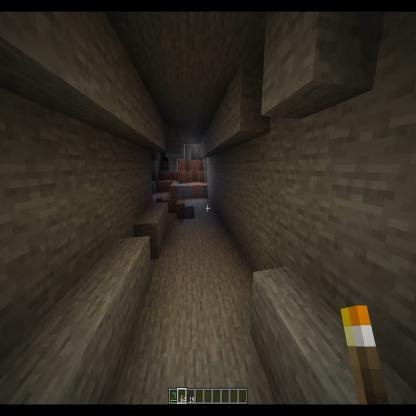coal ore: (158, 194, 165, 199), (164, 194, 170, 199)
